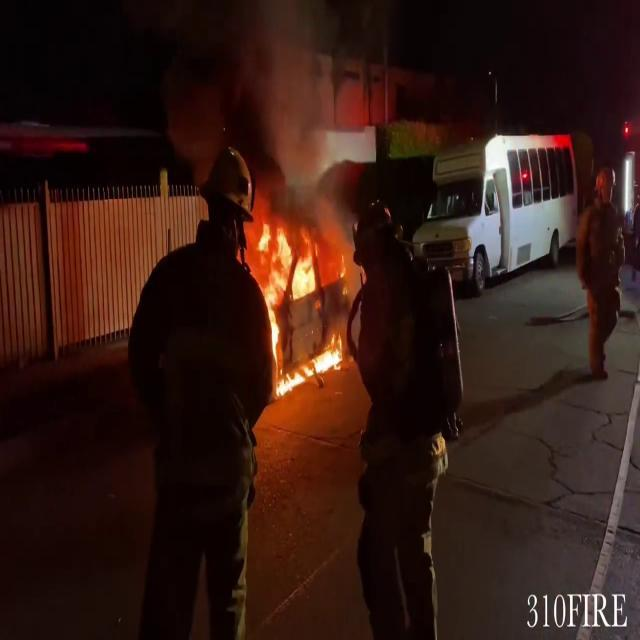Fire: (259, 223, 344, 400)
Smoke: (174, 0, 334, 206)
